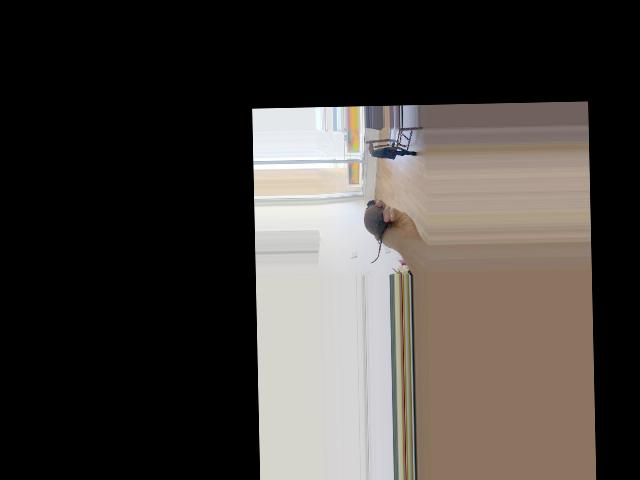beet: (363, 198, 386, 262)
